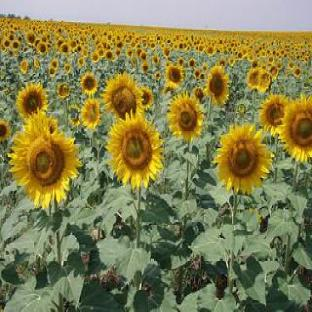sunflower: (9, 113, 82, 269), (106, 107, 163, 247)
